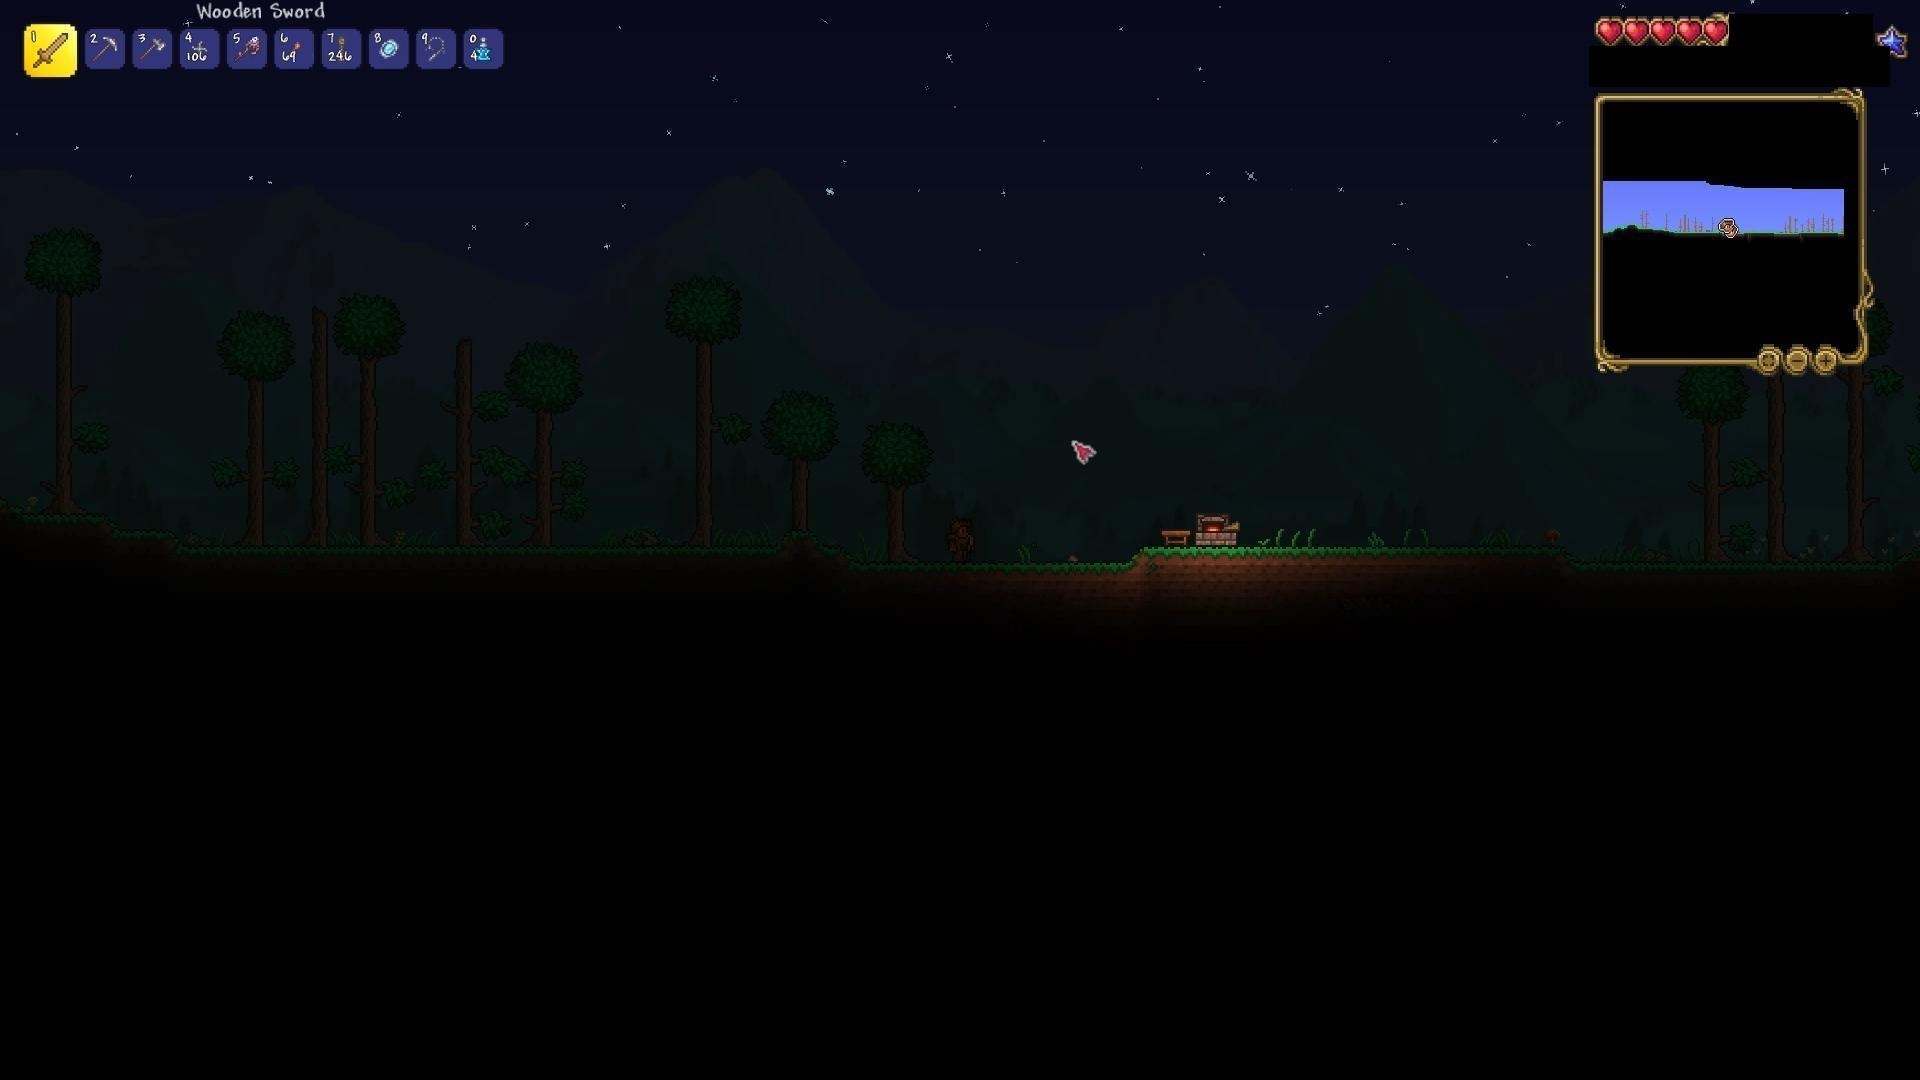dirt: (1130, 542, 1379, 585), (985, 554, 1149, 599)
heart: (1702, 17, 1733, 51), (1593, 16, 1626, 46), (1676, 15, 1704, 50), (1650, 16, 1676, 49), (1625, 15, 1651, 44)
tree: (25, 235, 113, 530), (669, 265, 744, 550), (335, 270, 397, 570), (223, 314, 277, 551), (1677, 367, 1735, 570), (866, 415, 940, 568), (517, 339, 568, 534), (434, 338, 481, 541), (767, 396, 835, 531)
